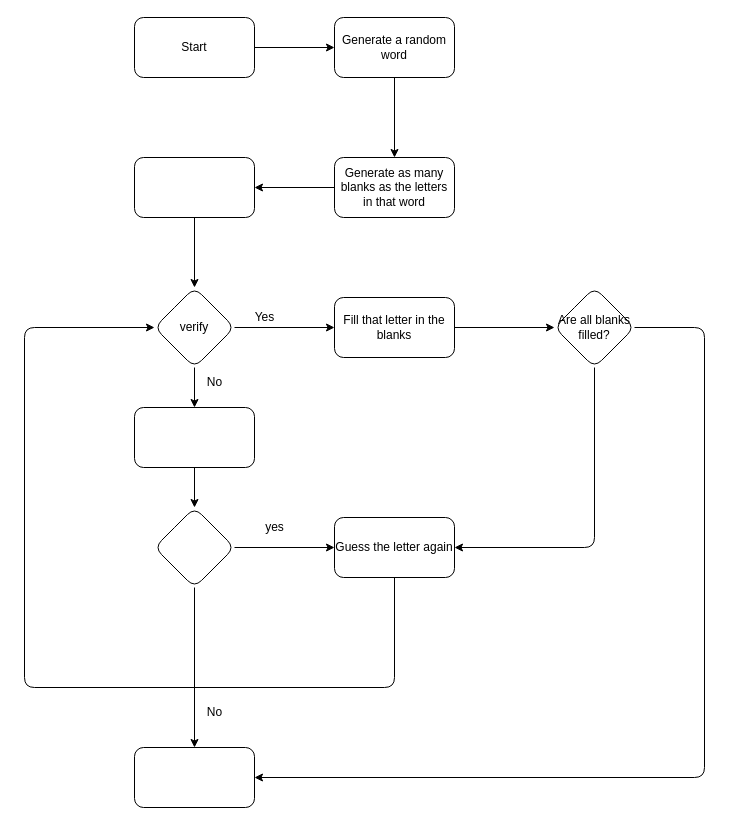
The diagram is 730 pixels wide and 825 high, and some of its shapes have lost their labels. Here are the shapes that lost their labels. From the top down, the box of each, then its label:
(134, 156, 254, 218): Guess a Letter
(134, 406, 254, 468): Minus a chance and start the hangman
(154, 506, 234, 588): chances left
(134, 746, 254, 808): Game Over
